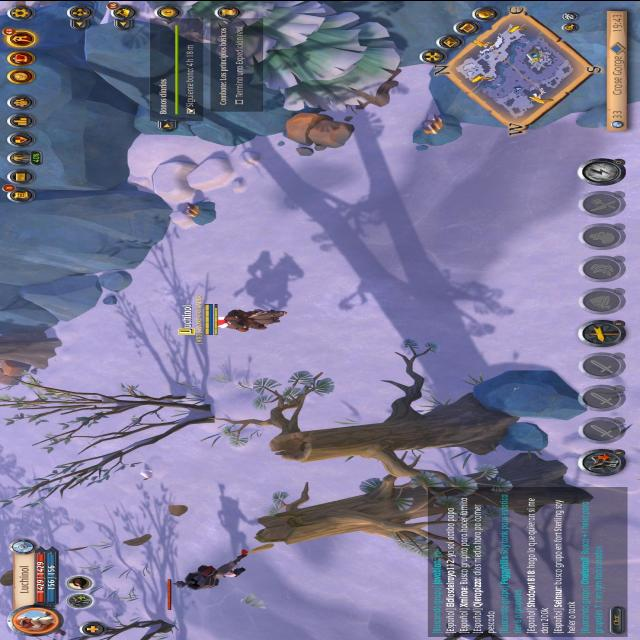piedra_cobre: (413, 112, 461, 146), (184, 204, 217, 226)
